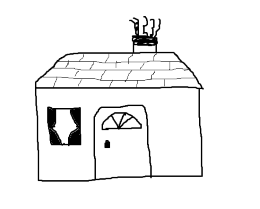door: (89, 101, 156, 184)
open_window: (47, 107, 82, 145)
roof: (30, 47, 203, 92)
smoking_chimney: (124, 12, 165, 57)
wall: (30, 82, 206, 186)
